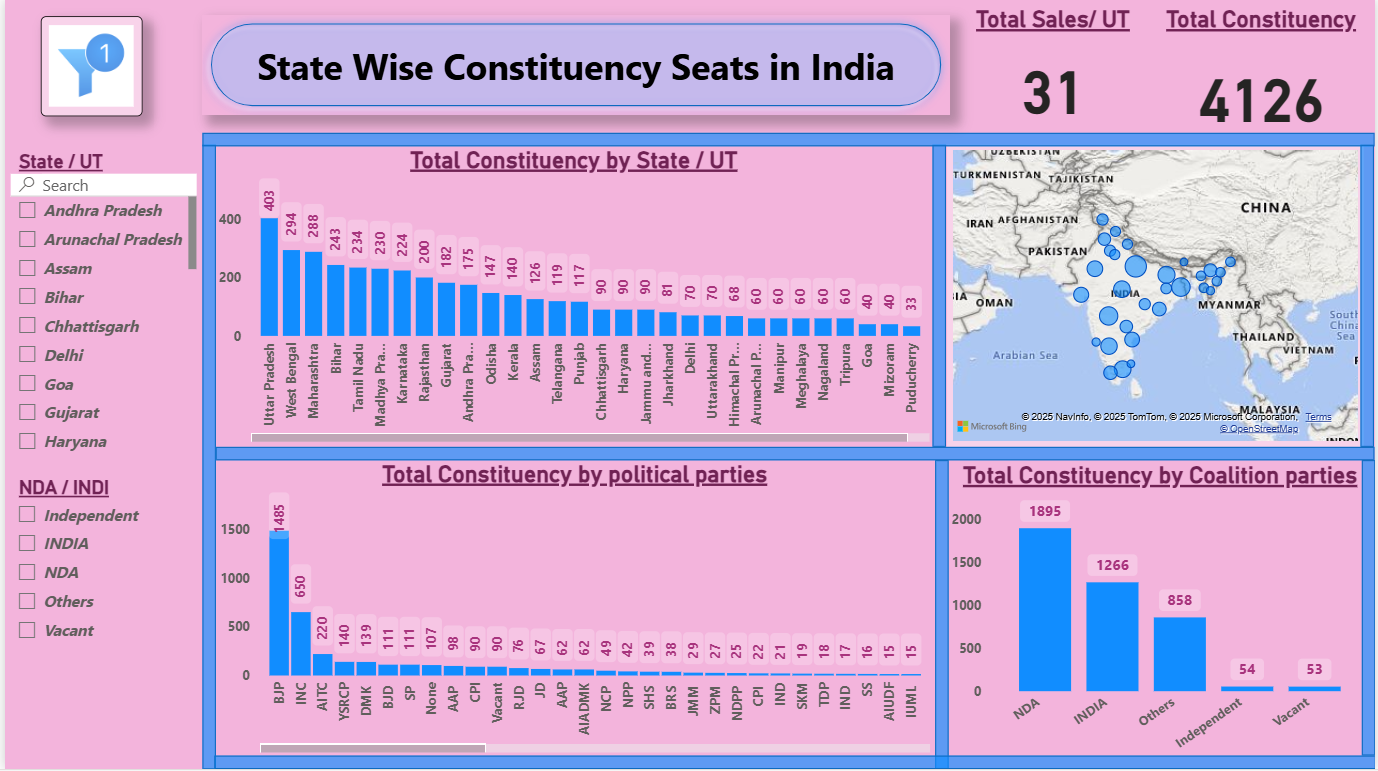

This screenshot's page, from the dashboard's own definition file:
{"tool":"powerbi","page":{"name":"Page 1","canvas":[1280,720],"ordinal":0},"visuals":[{"type":"card","title":"Total Sales/ UT","fields":{"Values":["Count(Data.State / UT)"]},"box":[879.2,6.3,200.4,123.5],"z":0},{"type":"card","title":"Total Constituency","fields":{"Values":["Sum(Data.Total Constituency)"]},"box":[1066.8,6.3,213,137.4],"z":1000},{"type":"clusteredColumnChart","title":"Total Constituency by political parties","fields":{"Y":["Sum(Data.Total Constituency)"],"Category":["Data.Party"]},"box":[195.8,430.7,673.4,278],"z":2000},{"type":"map","fields":{"Category":["Data.State / UT"],"Size":["Sum(Data.Total Constituency)"]},"box":[879.7,136.1,389.5,282.3],"z":3000},{"type":"clusteredColumnChart","title":"Total Constituency by State / UT","fields":{"Category":["Data.State / UT"],"Y":["Sum(Data.Total Constituency)"]},"box":[195,137.7,674.3,281.1],"z":4000},{"type":"clusteredColumnChart","title":"Total Constituency by Coalition parties","fields":{"Y":["Sum(Data.Total Constituency)"],"Category":["Data.NDA / INDI"]},"box":[879.4,431.6,400.6,288.4],"z":5000},{"type":"slicer","fields":{"Values":["Data.State / UT"]},"box":[0,136.1,184,292.4],"z":6000},{"type":"slicer","fields":{"Values":["Data.NDA / INDI"]},"box":[0,441.1,184,210.5],"z":7000},{"type":"shape","box":[184,136.1,12.6,583.5],"z":8000},{"type":"shape","box":[867.1,136.1,12.6,282.3],"z":9000},{"type":"shape","box":[184,124.8,1095.3,12.6],"z":10000},{"type":"shape","box":[196.6,418.4,1082.7,12.6],"z":11000},{"type":"shape","box":[869.7,431,12.6,288.6],"z":12000},{"type":"shape","box":[195.4,707.1,1085.2,12.6],"z":13000},{"type":"shape","box":[1266.7,136.1,12.6,282.3],"z":14000},{"type":"shape","box":[1267.9,431,12.6,276],"z":15000},{"type":"shape","box":[184,15.1,698.2,93.3],"z":15001},{"type":"image","box":[33.9,15.7,95.3,94],"z":15002}]}

Visuals, with their boxes in screenshot pixels (x1, y1, x2, y2), scaled from the page's 1280x720 canvas onto the 1378x771 screenshot:
"Total Sales/ UT" card: box=[947, 7, 1162, 139]
"Total Constituency" card: box=[1148, 7, 1377, 154]
"Total Constituency by political parties" clusteredColumnChart: box=[211, 461, 936, 759]
map - Data.State / UT x Sum(Data.Total Constituency): box=[947, 146, 1366, 448]
"Total Constituency by State / UT" clusteredColumnChart: box=[210, 147, 936, 448]
"Total Constituency by Coalition parties" clusteredColumnChart: box=[947, 462, 1377, 770]
slicer - Data.State / UT: box=[0, 146, 198, 459]
slicer - Data.NDA / INDI: box=[0, 472, 198, 698]
shape: box=[198, 146, 212, 770]
shape: box=[933, 146, 947, 448]
shape: box=[198, 134, 1377, 147]
shape: box=[212, 448, 1377, 462]
shape: box=[936, 462, 950, 770]
shape: box=[210, 757, 1377, 770]
shape: box=[1364, 146, 1377, 448]
shape: box=[1365, 462, 1377, 757]
shape: box=[198, 16, 950, 116]
image: box=[36, 17, 139, 117]
